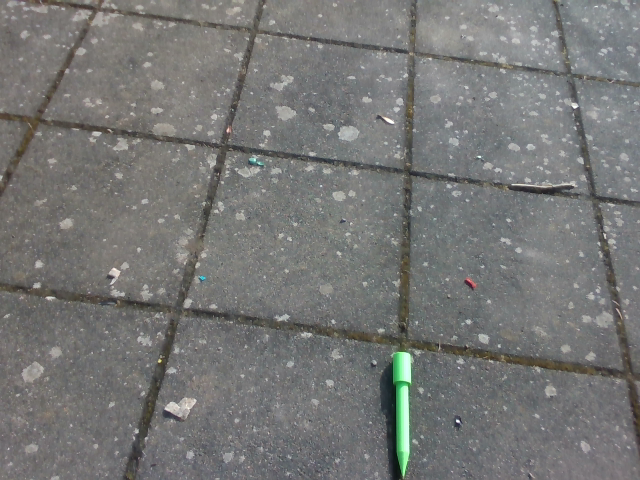Probe: (383, 347, 420, 480)
